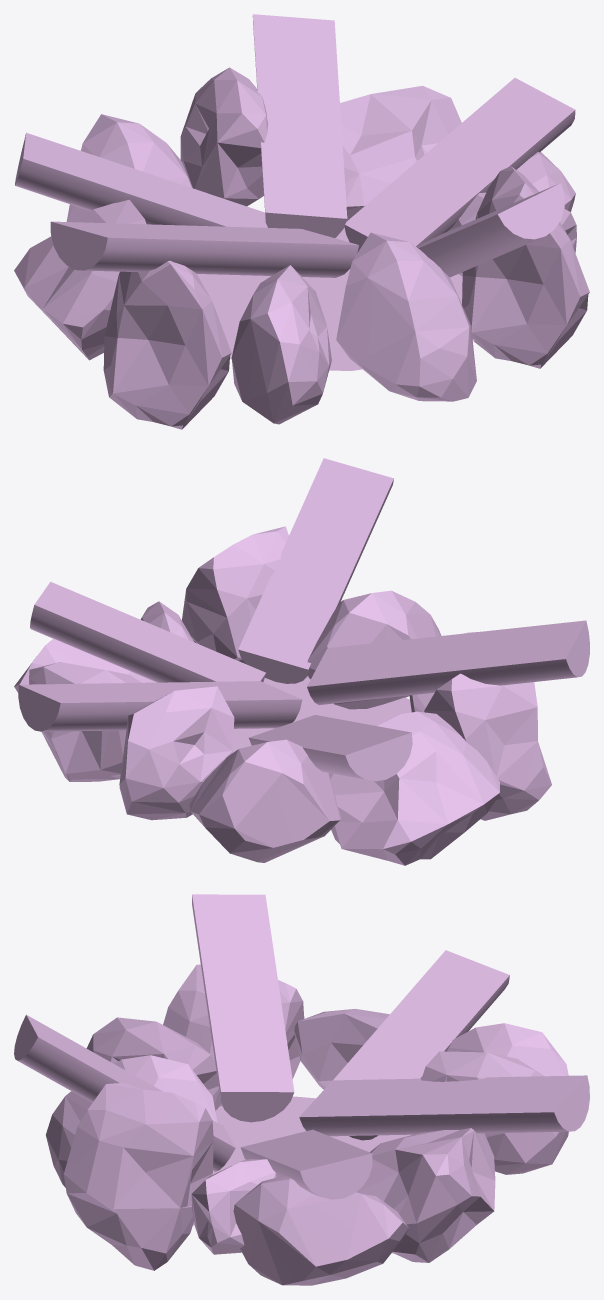
The model's file is campfire.gltf.
The picture shows the model from 3 angles, top to bottom: view 1: azimuth 30°, elevation 25°; view 2: azimuth 150°, elevation 25°; view 3: azimuth 270°, elevation 25°; orthographic projection. The views are drawn at different scales.
Parts seen in each view (by area): view 1: campfire; view 2: campfire; view 3: campfire.
Part boxes in pixels (bbox=[...]): campfire: bbox=[14, 14, 589, 429]; campfire: bbox=[14, 458, 589, 865]; campfire: bbox=[14, 894, 589, 1285].
Size of the model in its own units: 1.4 by 0.6129 by 1.37.
